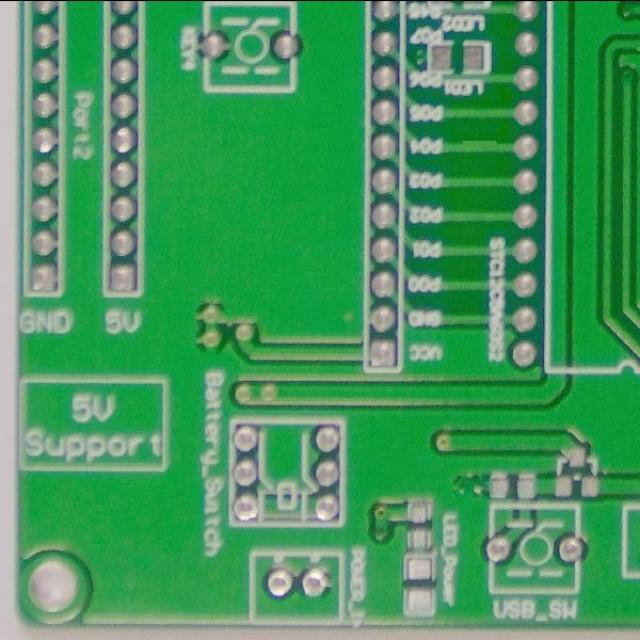spur: (457, 130, 499, 158)
